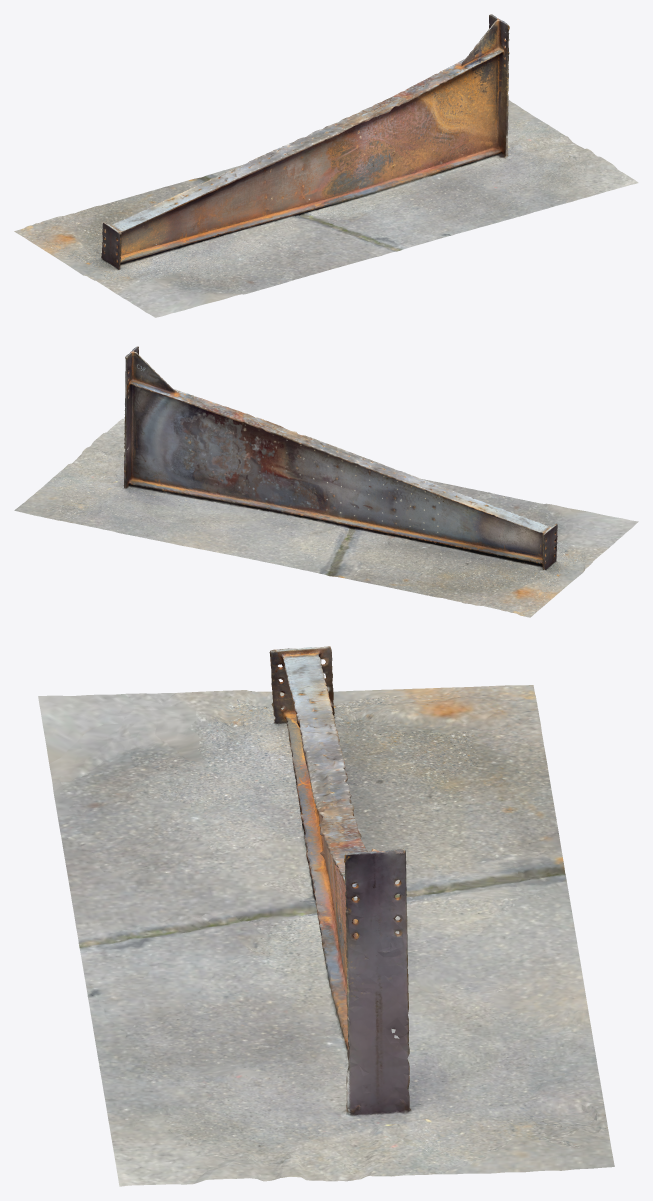
3 renders of one model, top to bottom at view 1: azimuth 30°, elevation 25°; view 2: azimuth 150°, elevation 25°; view 3: azimuth 270°, elevation 25°, orthographic. The views are drawn at different scales.
Bounding box in the file's own units: 3.13 × 0.779 × 1.53.
Materials: 1 (1 with a texture image).
